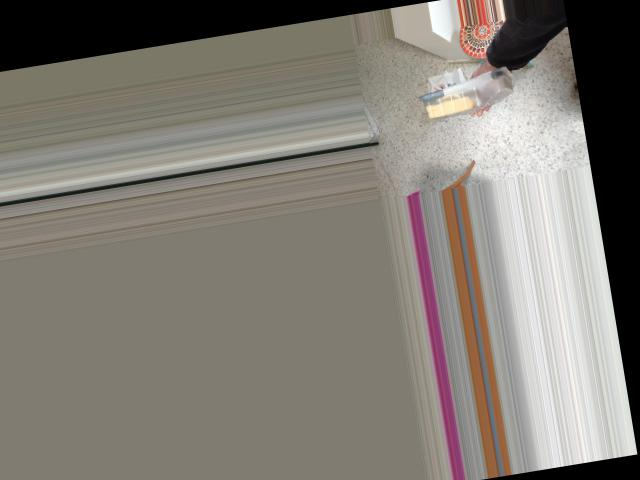cheese: (418, 66, 514, 123)
